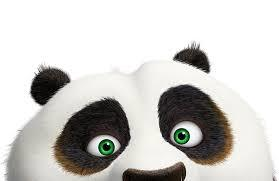KungfuPanda: (5, 32, 258, 181)
